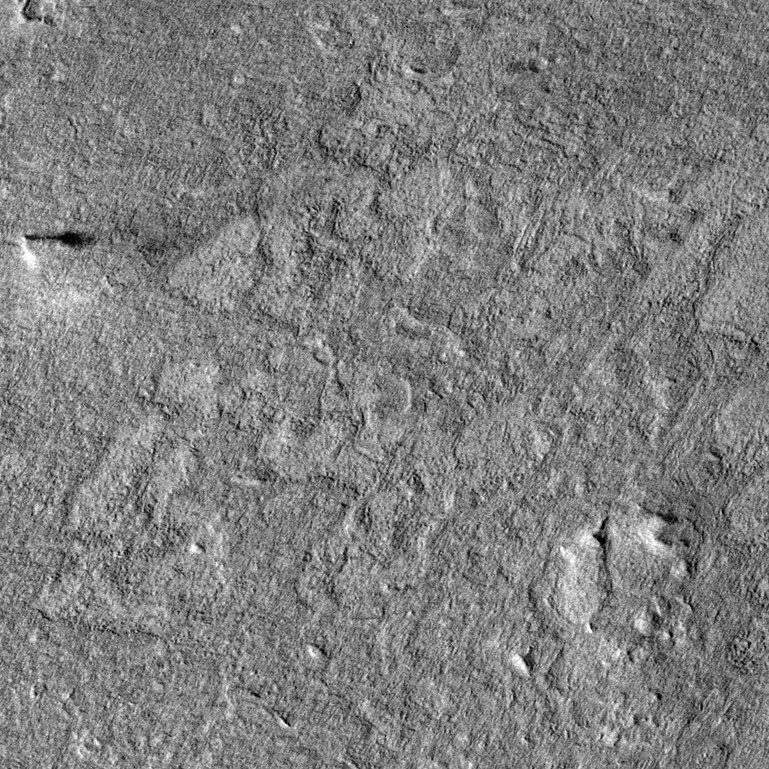dust_devil: (16, 229, 90, 271)
